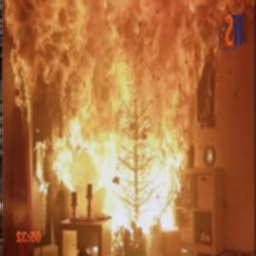fire: (0, 1, 251, 235)
